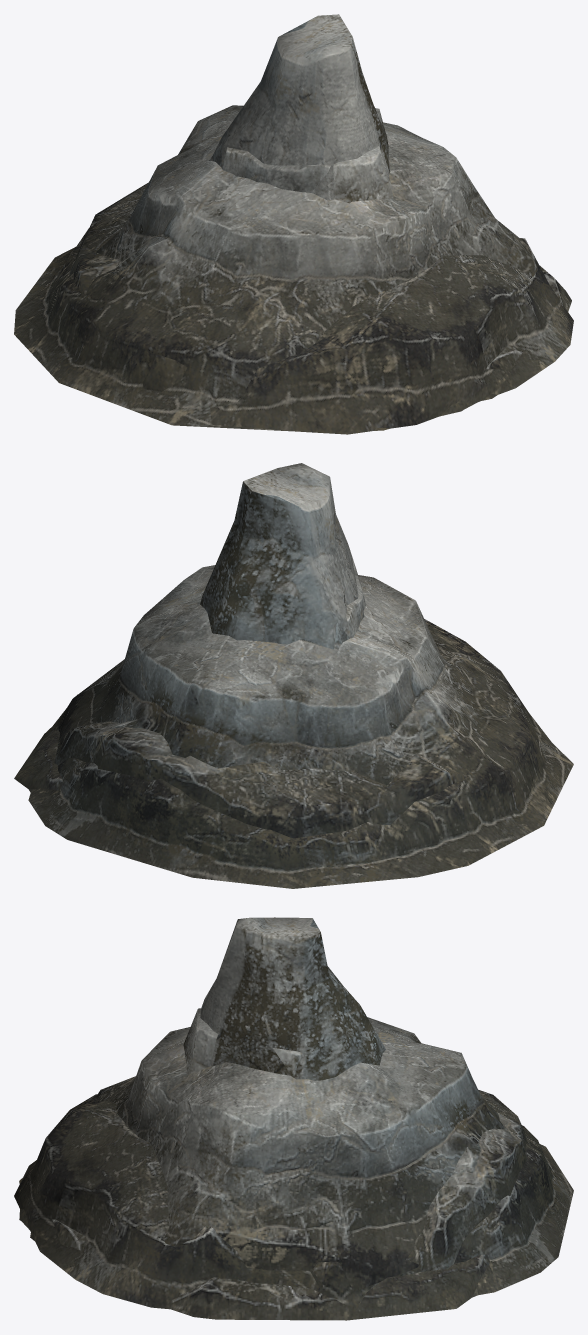
File: mountain1.glb
3 views of the same model, one above another, from view 1: azimuth 30°, elevation 25°; view 2: azimuth 150°, elevation 25°; view 3: azimuth 270°, elevation 25° (orthographic). The views are drawn at different scales.
Visible parts, largest first — view 1: mountain1_mountains_0, mountain2_mountains_0, mountain3_mountains_0, mountain4_mountains_0; view 2: mountain1_mountains_0, mountain2_mountains_0, mountain4_mountains_0, mountain3_mountains_0; view 3: mountain1_mountains_0, mountain2_mountains_0, mountain4_mountains_0, mountain3_mountains_0.
Boxes of the visible parts, x1,y1,x2,y2 form: mountain1_mountains_0: (14, 105, 537, 431); mountain2_mountains_0: (69, 14, 573, 434); mountain3_mountains_0: (209, 108, 477, 430); mountain4_mountains_0: (482, 265, 571, 400); mountain1_mountains_0: (28, 565, 573, 888); mountain2_mountains_0: (29, 463, 555, 838); mountain4_mountains_0: (14, 727, 63, 790); mountain3_mountains_0: (334, 556, 366, 649); mountain1_mountains_0: (96, 1017, 573, 1294); mountain2_mountains_0: (14, 917, 527, 1311); mountain4_mountains_0: (30, 1219, 489, 1320); mountain3_mountains_0: (19, 1008, 302, 1229).
Size of the model in its own units: 884 by 510 by 886.
1 material, 1 textured.
